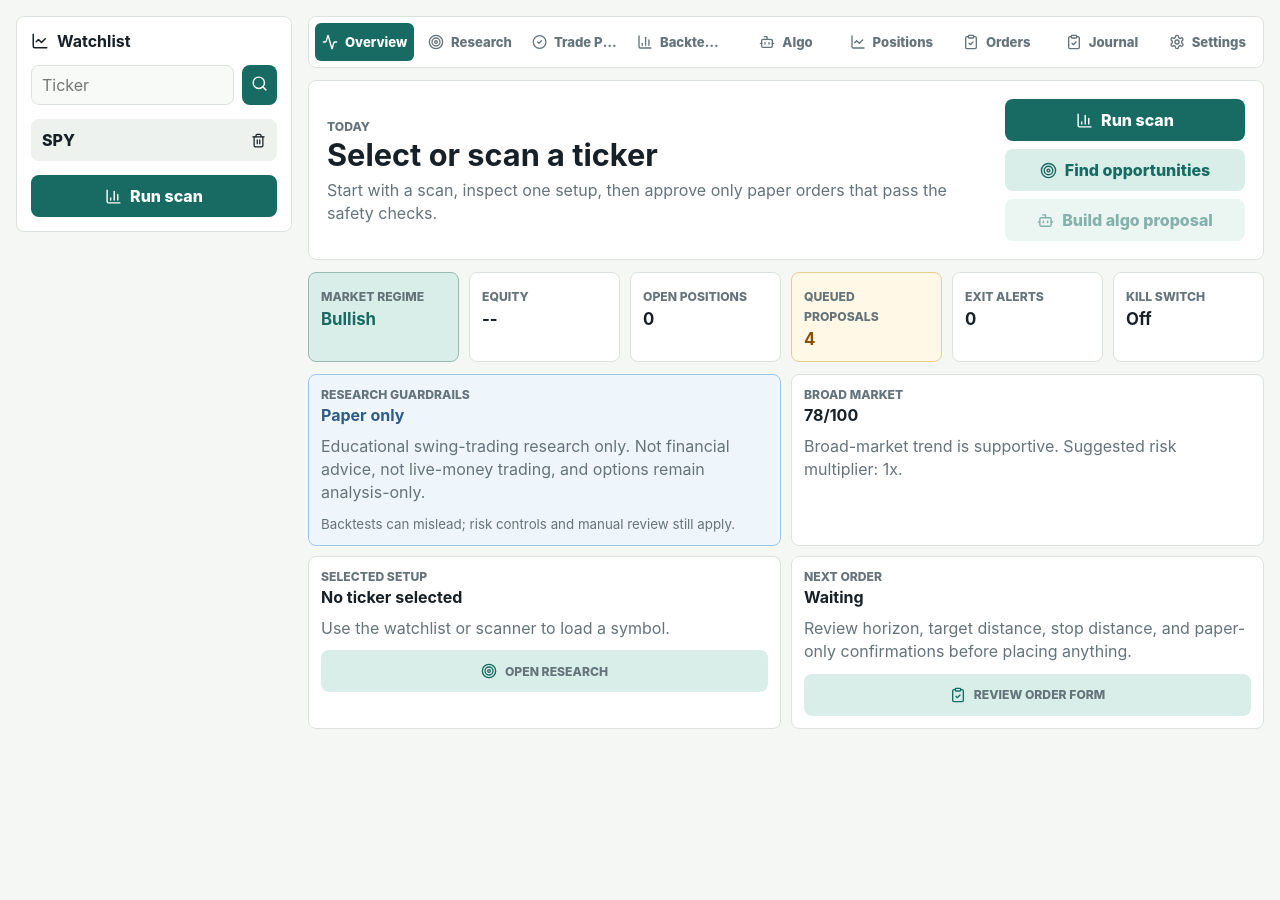
Test: dashboard › shows blocked option reasons and keeps contract selection actionable
Click the button "Algo": point(786, 42) 736,23 -> 836,61
(page scrolled)
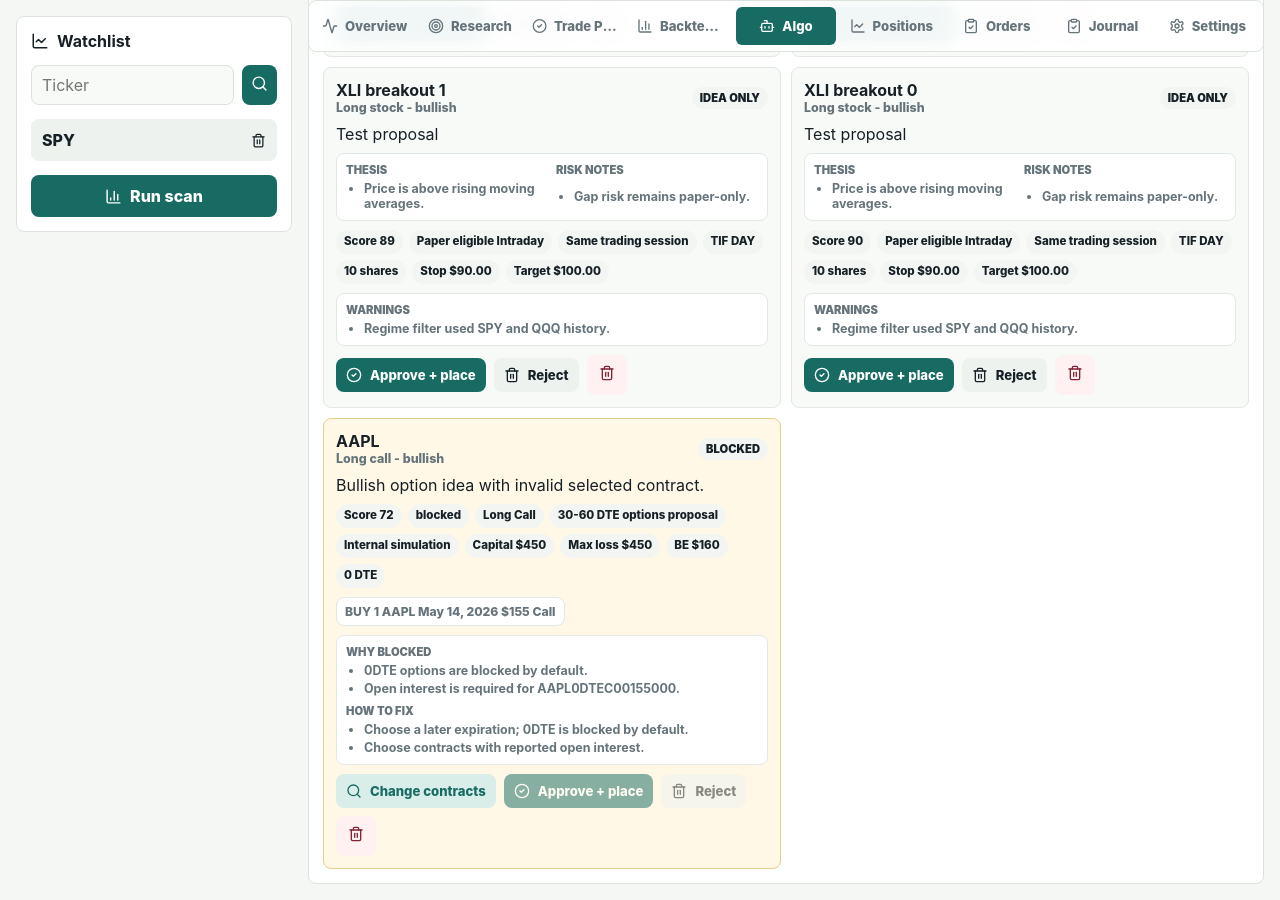
expect the text "Why blocked" is shown: met, box 346,646 -> 431,660
expect the list item "0DTE options are blocked by default." is shown: met, box 364,664 -> 588,678
expect the list item "Open interest is required for AAPL0DTEC00155000." is shown: met, box 364,682 -> 680,696
Click the button "Change contracts": point(416, 792) 336,774 -> 496,808
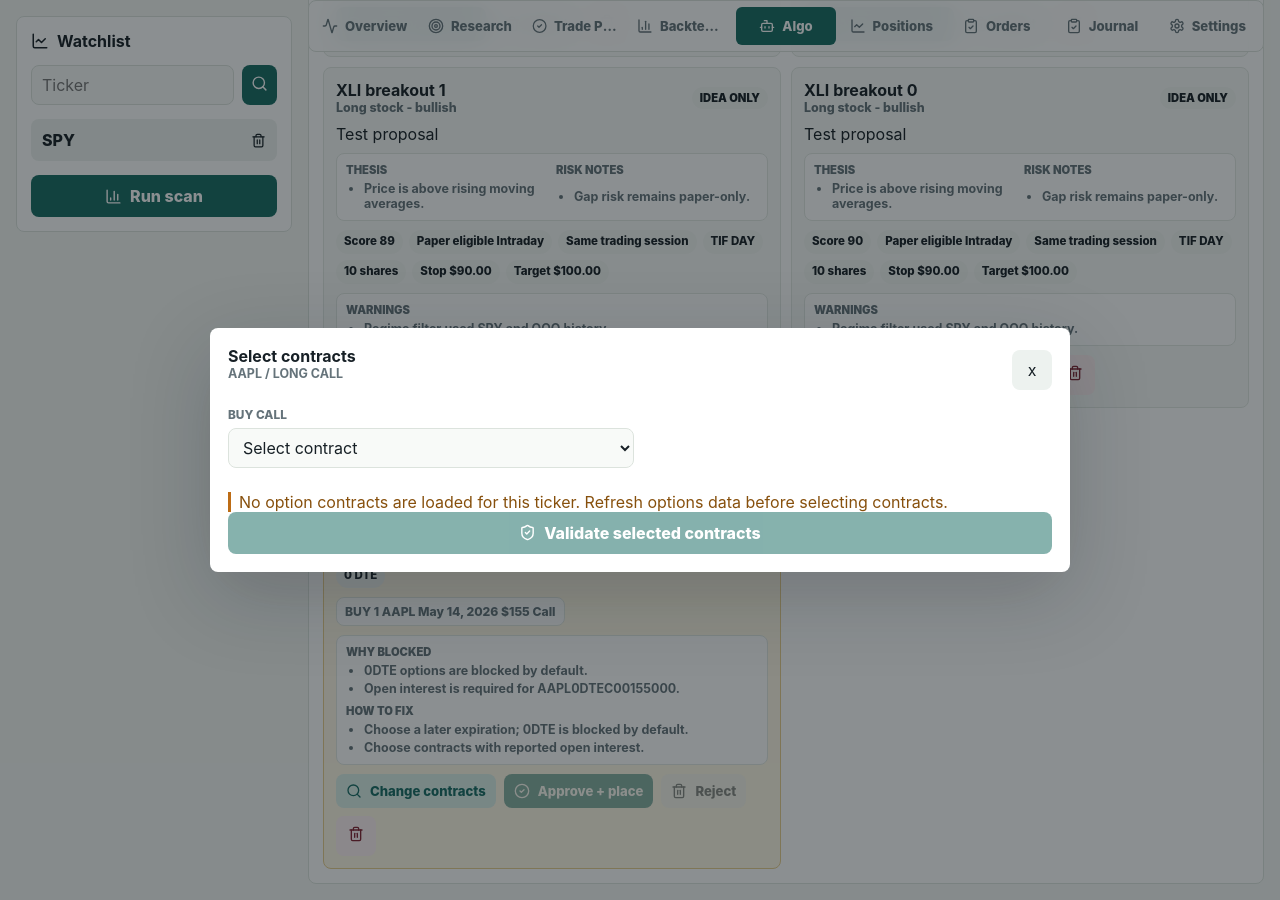
expect the dialog named "Select Algo option contracts" is shown: met, box 210,328 -> 1070,572
expect the text "No option contracts are loaded for this ticker. Refresh options data before selecting contracts." is shown: met, box 239,492 -> 948,512
